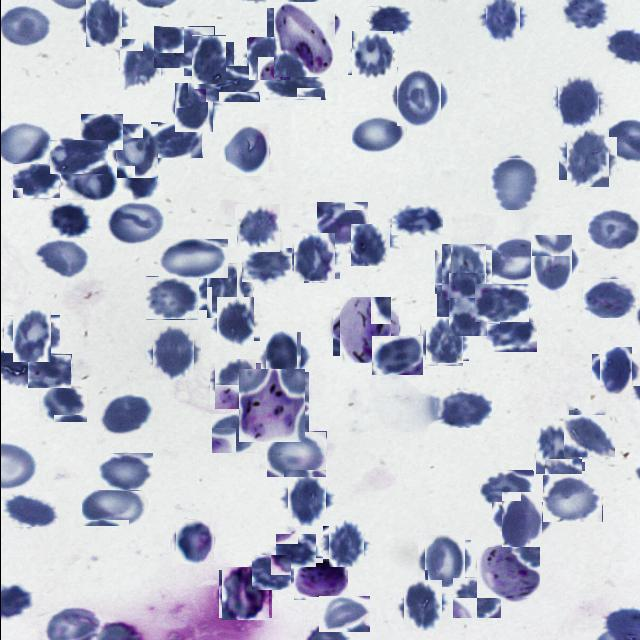difficult: (293, 558, 348, 600)
red blood cell: (542, 474, 602, 522), (487, 157, 540, 210), (158, 238, 228, 278), (80, 484, 146, 526), (266, 431, 326, 477), (392, 70, 444, 122), (108, 201, 166, 247), (485, 236, 543, 282), (437, 246, 488, 298), (442, 279, 493, 330), (153, 26, 214, 68), (496, 497, 546, 548), (562, 133, 612, 184), (220, 569, 270, 619), (193, 65, 259, 102), (526, 238, 575, 287), (61, 159, 116, 202), (534, 423, 582, 472), (145, 276, 198, 320), (149, 329, 197, 377), (222, 126, 270, 174), (112, 128, 160, 176), (316, 201, 368, 245), (554, 78, 602, 125), (98, 393, 151, 435), (587, 208, 640, 250), (8, 310, 54, 358), (566, 412, 612, 460), (582, 278, 636, 318), (351, 114, 406, 153), (262, 66, 325, 100), (434, 390, 490, 428), (283, 476, 329, 522), (116, 42, 162, 88), (202, 268, 248, 314), (291, 235, 337, 281), (235, 205, 281, 251), (421, 537, 466, 584), (212, 361, 258, 406), (479, 470, 533, 508), (98, 454, 152, 492), (474, 284, 528, 322), (349, 32, 394, 77), (483, 314, 536, 352), (452, 577, 501, 618), (38, 381, 87, 422), (371, 336, 422, 375), (36, 240, 88, 278), (49, 140, 107, 174), (211, 413, 260, 453), (2, 492, 58, 527), (261, 336, 305, 380), (400, 583, 444, 627), (212, 300, 256, 344), (172, 86, 216, 130), (81, 0, 126, 43), (422, 320, 465, 364), (150, 122, 202, 158), (247, 37, 290, 80), (318, 596, 369, 632), (172, 520, 215, 562), (186, 38, 228, 80), (46, 200, 92, 238), (241, 248, 291, 282), (350, 224, 390, 266), (324, 524, 366, 564), (12, 163, 60, 198), (595, 350, 635, 390), (391, 205, 442, 235), (482, 0, 523, 37), (80, 114, 122, 150), (27, 354, 71, 388), (251, 554, 291, 590), (275, 534, 316, 568), (368, 6, 412, 37)
trophozoite: (236, 370, 306, 440), (270, 6, 338, 74), (336, 300, 394, 360), (476, 547, 539, 598)
